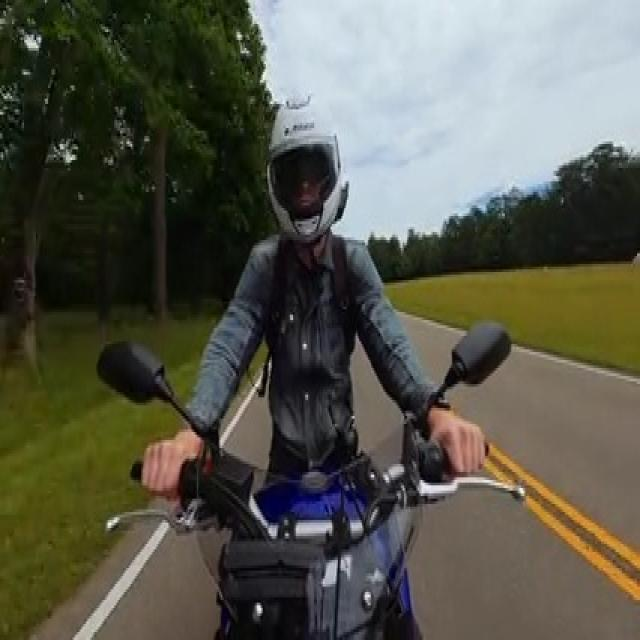Helmet_Wearer: (262, 83, 361, 252)
Person: (150, 76, 488, 484)
